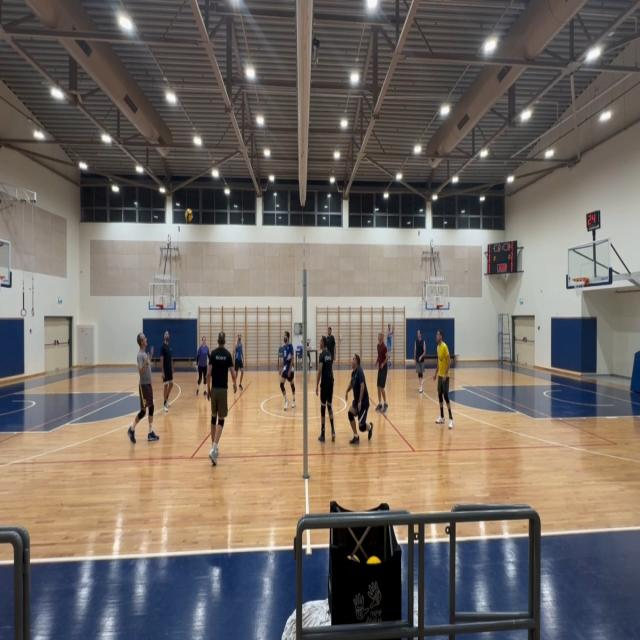volleyball: (185, 209, 192, 221)
